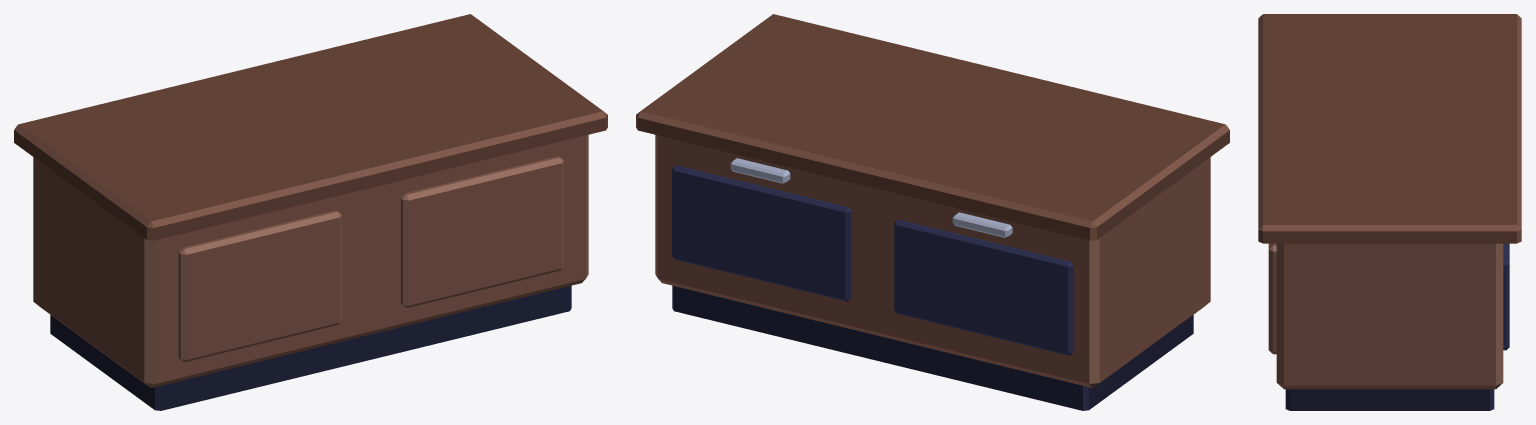
File: Counter_8x4.fbx
The picture shows the model from 3 angles, left to right: view 1: azimuth 30°, elevation 25°; view 2: azimuth 150°, elevation 25°; view 3: azimuth 270°, elevation 25°; orthographic projection. The views are drawn at different scales.
Visible parts, largest first — view 1: Counter_8x4; view 2: Counter_8x4; view 3: Counter_8x4.
Part boxes in pixels (bbox=[...]): Counter_8x4: bbox=[14, 14, 607, 410]; Counter_8x4: bbox=[636, 14, 1229, 410]; Counter_8x4: bbox=[1258, 14, 1521, 410].
Bounding box in the file's own units: 8.3 × 3.5 × 4.3.
Materials: 1 (1 with a texture image).
